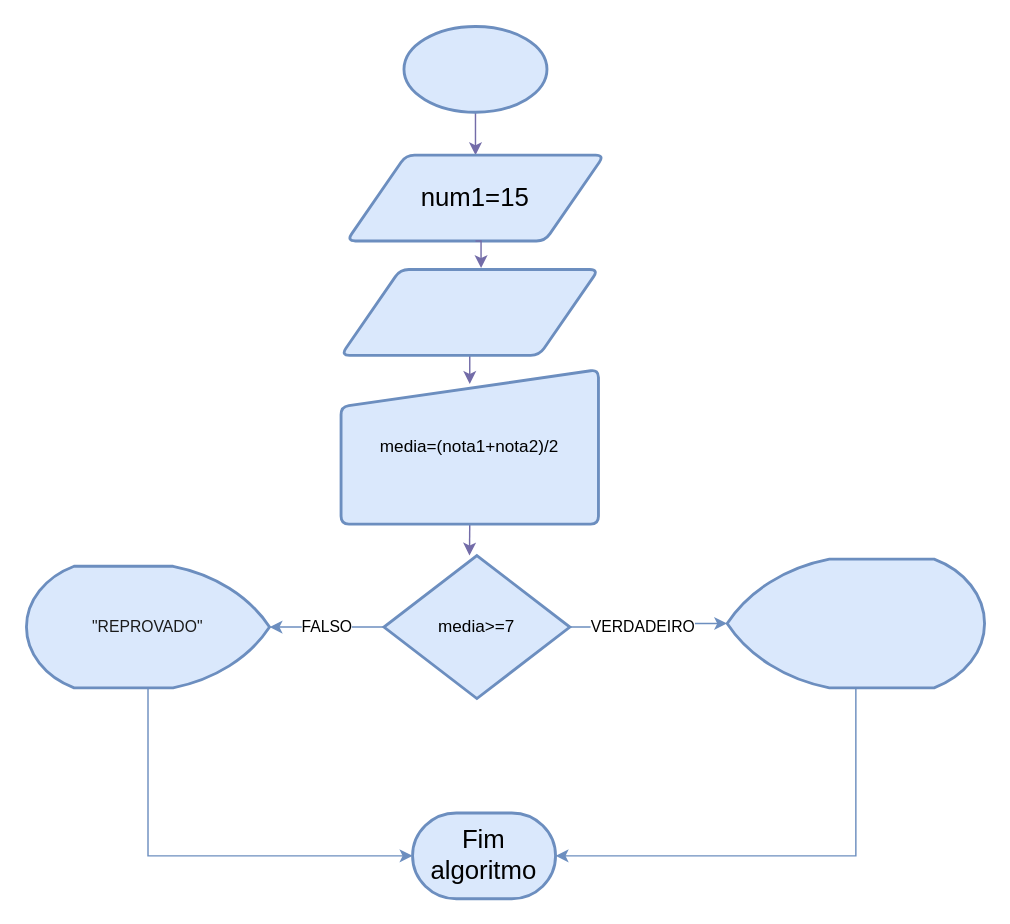
Image size: 1010x924. Some labels were removed from this diagram. The shapes that lost their labels are listed below. From the top down, each one's centre as x and y in pixels, then its label:
(475,68): inicio
(469,311): num2=8
(855,623): "APROVADO"
